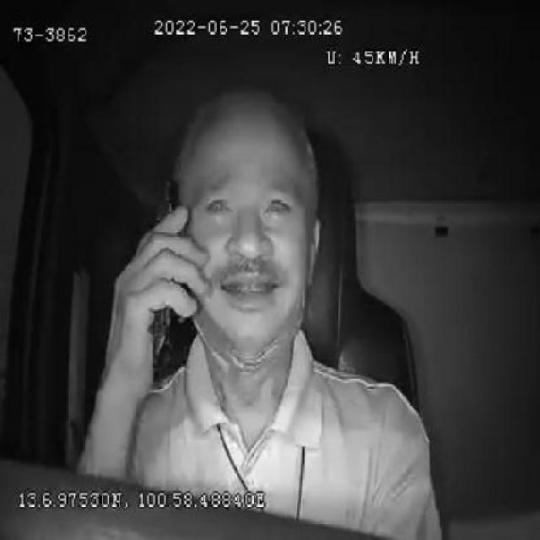phone: (137, 177, 189, 382)
